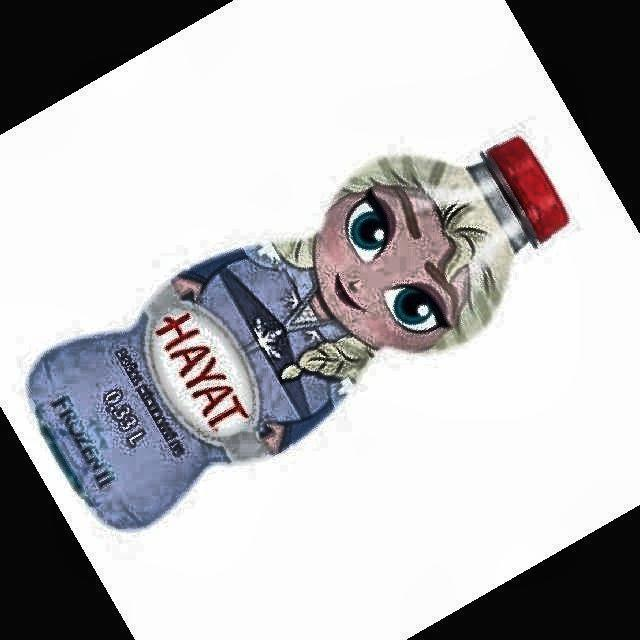plastic: (28, 138, 569, 529)
